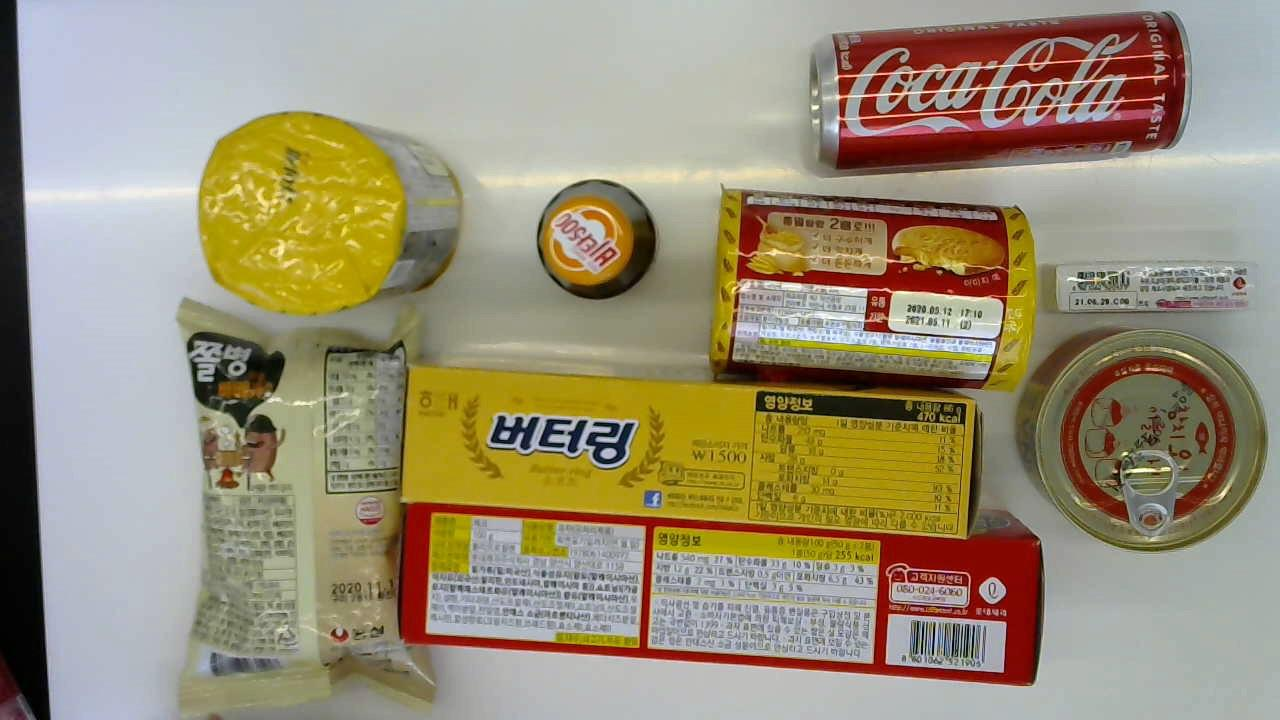buttering: (397, 355, 988, 535)
coke: (807, 8, 1192, 177)
diget_choco: (198, 116, 461, 313)
diget_ori: (711, 186, 1031, 389)
jjolbyung_ori: (174, 294, 435, 715)
spearmint: (1040, 262, 1256, 314)
tuna: (1016, 331, 1265, 549)
vita500: (538, 179, 657, 301)
zec: (398, 510, 1047, 688)
